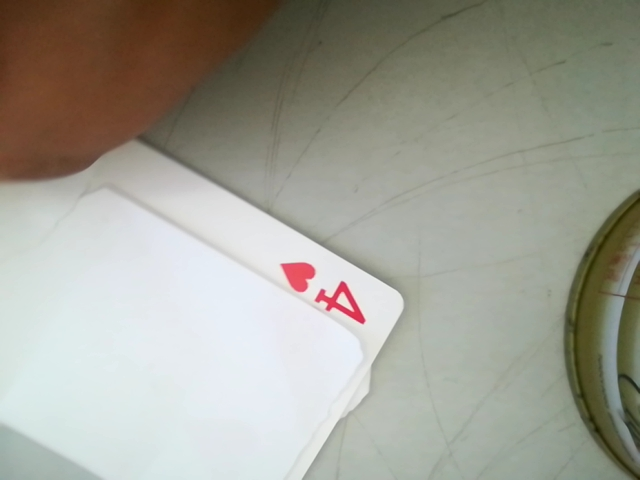hx 4: (268, 251, 382, 332)
